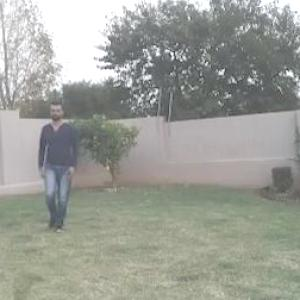follow: (38, 102, 80, 231)
